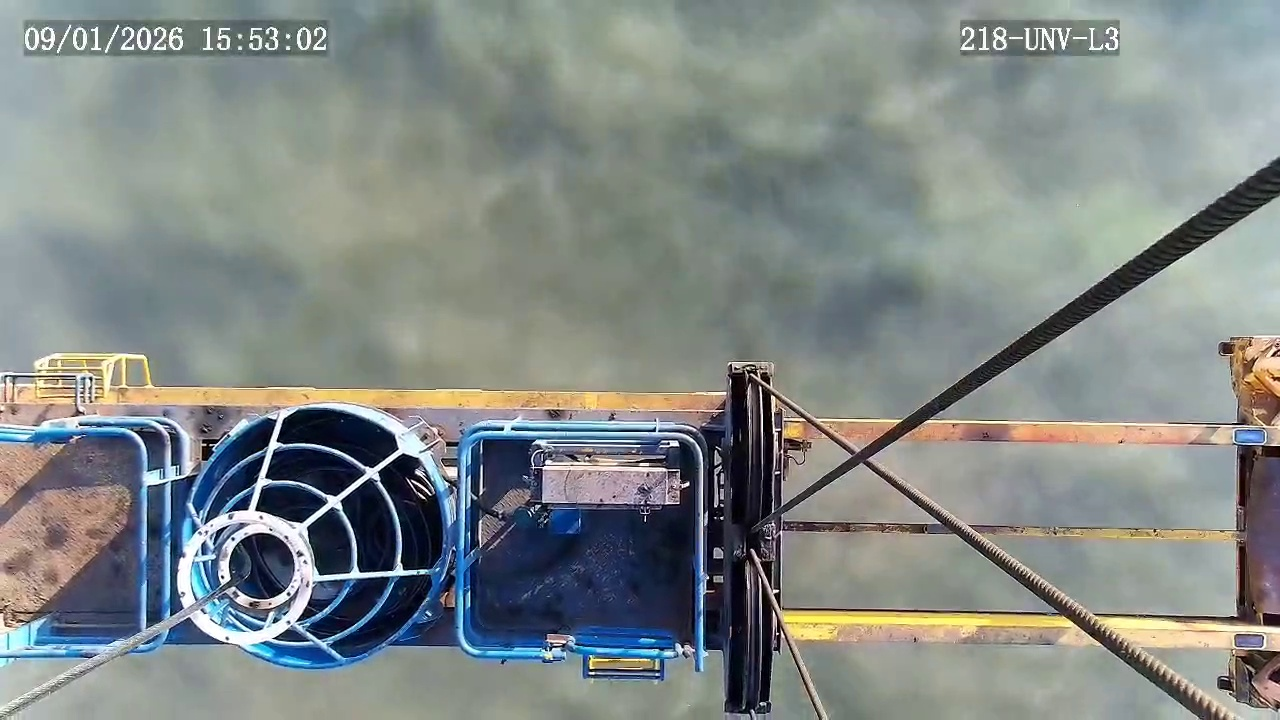right: (182, 407, 448, 669)
